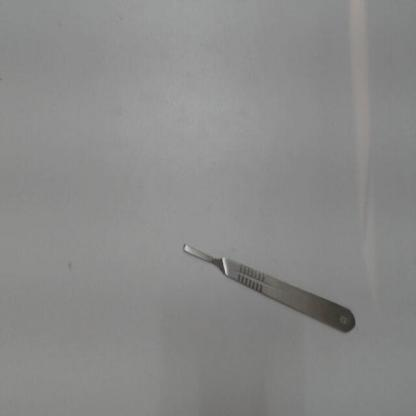No.4 BP Handle: (178, 234, 365, 345)
